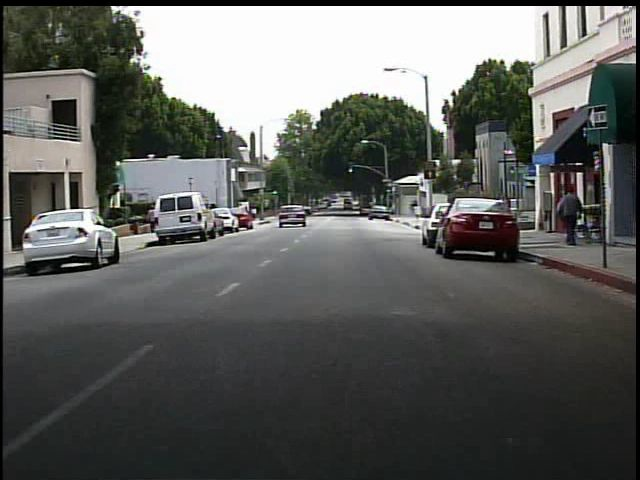person: (551, 183, 585, 248), (147, 204, 164, 237)
